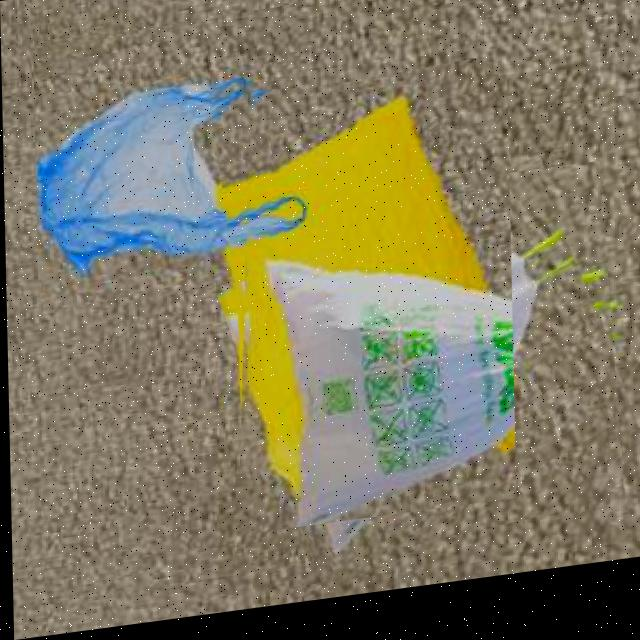litter: (235, 175, 623, 588), (227, 70, 514, 540), (33, 12, 307, 309)
